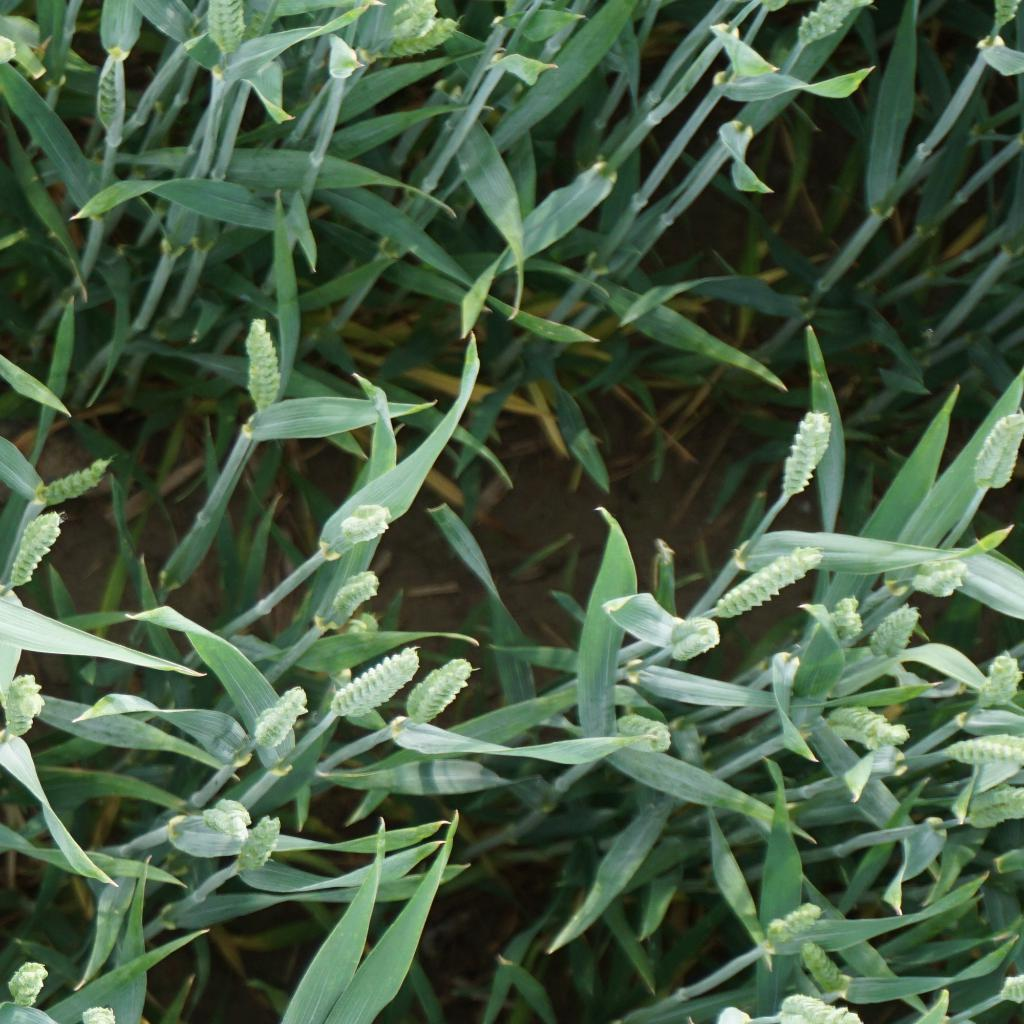0-0: (718, 545, 826, 615), (328, 644, 420, 716), (949, 776, 1024, 838), (9, 510, 67, 587), (783, 403, 829, 499), (408, 655, 471, 725), (818, 697, 909, 742), (38, 456, 121, 504), (975, 412, 1024, 493), (243, 314, 281, 416), (944, 725, 1024, 773), (254, 683, 310, 746), (798, 0, 871, 47), (868, 600, 925, 660), (378, 22, 459, 59), (328, 571, 389, 619), (975, 651, 1022, 713), (782, 988, 860, 1024), (5, 668, 43, 739), (239, 813, 284, 872), (612, 709, 671, 753), (339, 503, 402, 544), (203, 1, 247, 59), (908, 557, 970, 598), (670, 613, 723, 660), (202, 792, 252, 841), (761, 905, 825, 941), (801, 937, 842, 991), (98, 53, 124, 136), (6, 960, 50, 1009), (390, 0, 439, 42), (832, 596, 865, 644)
